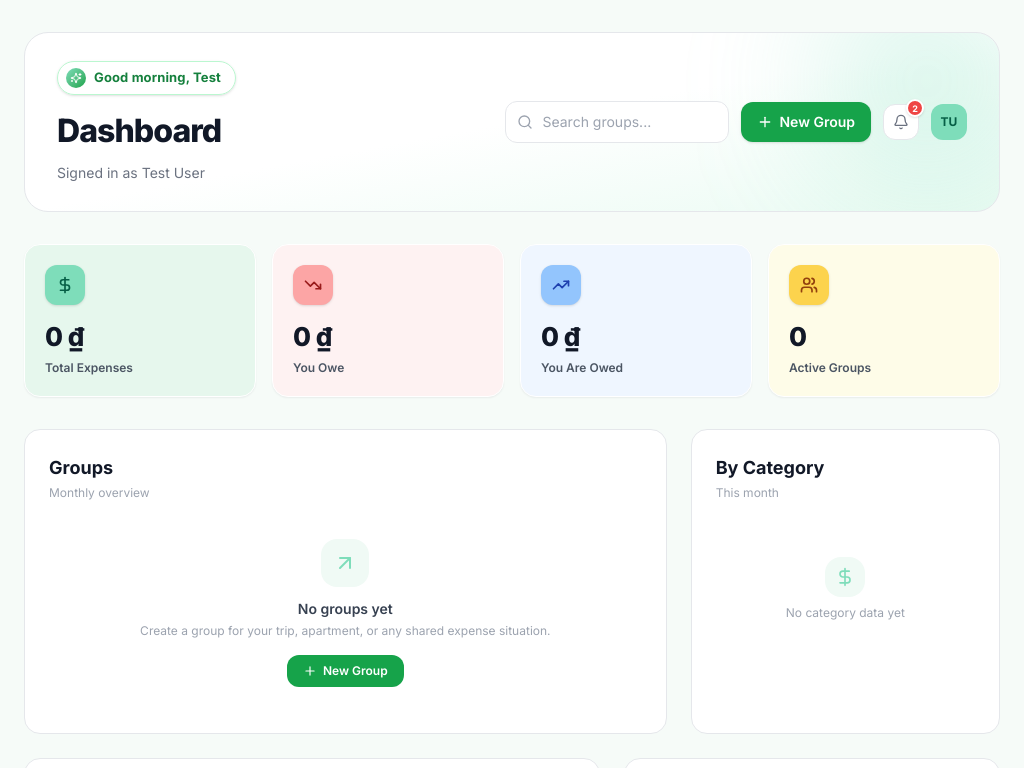
Test case: Dashboard notification integration › shows a retry action when the list request fails
The width and height of the screenshot is (1024, 768).
Click the button named "Notifications, 2 unread notifications" at (901, 122), box top-left (883, 104), bottom-right (919, 140)
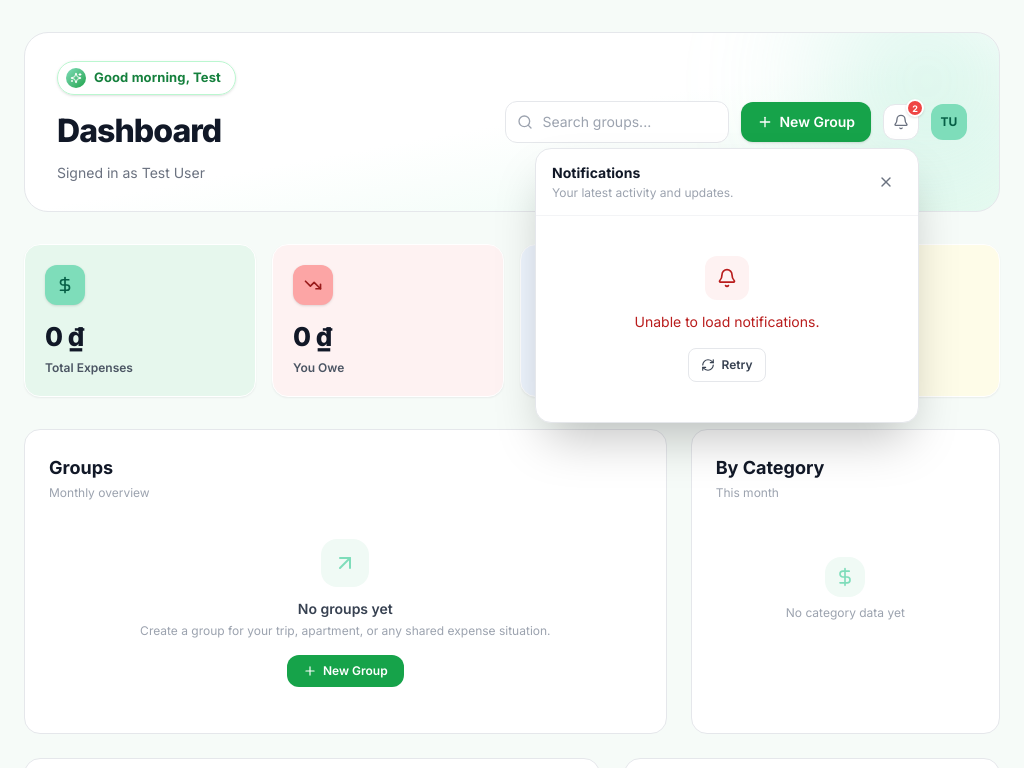
Now the text "Unable to load notifications." is shown, box top-left (634, 312), bottom-right (820, 332)
Click the button "Retry" at (727, 365), box top-left (688, 348), bottom-right (766, 382)
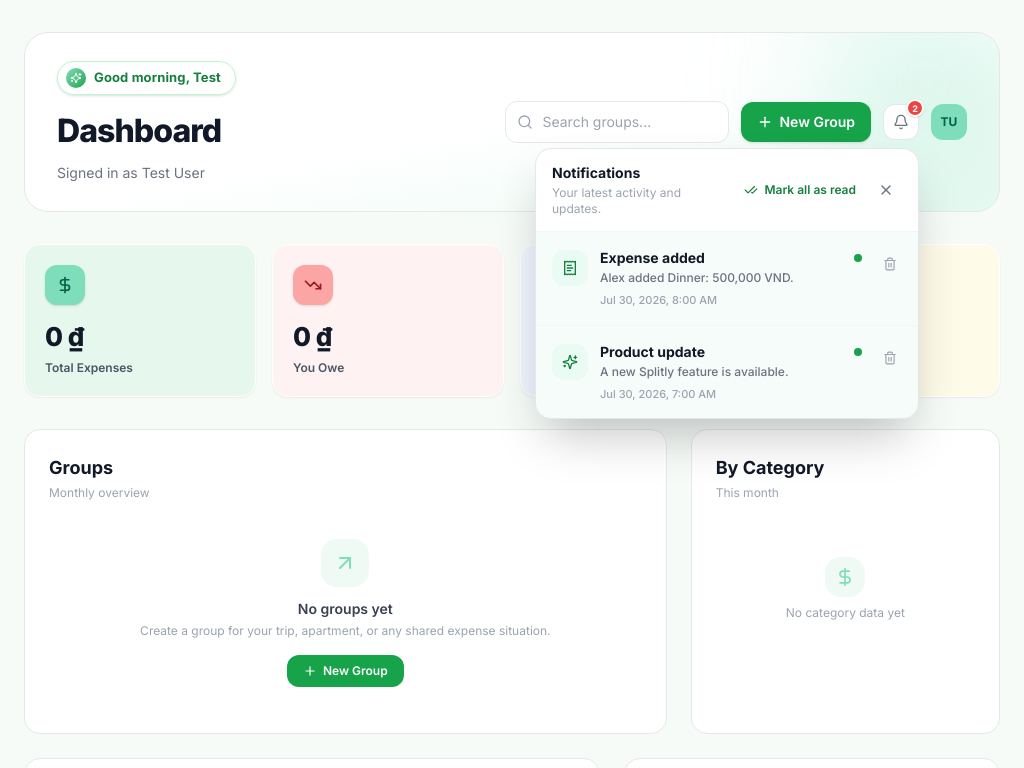
Now the text "Expense added" is shown, box top-left (600, 249), bottom-right (705, 266)
